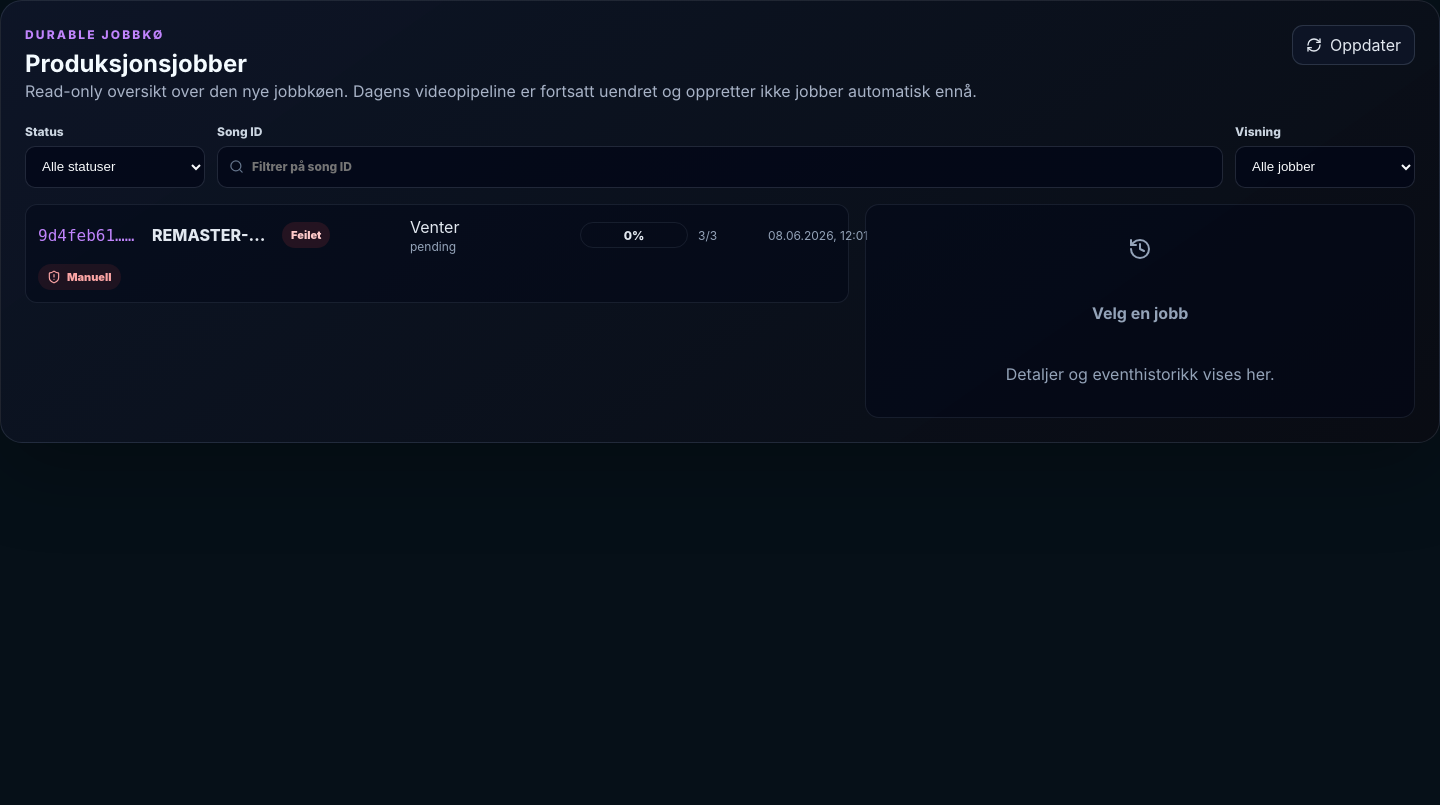
Test: AdminJobs › hides retry when manual review or retry limit blocks it
Click the text "REMASTER-SCHEMA-SMOKE-20260608-test". click: [212, 235]
box: [152, 225, 272, 245]
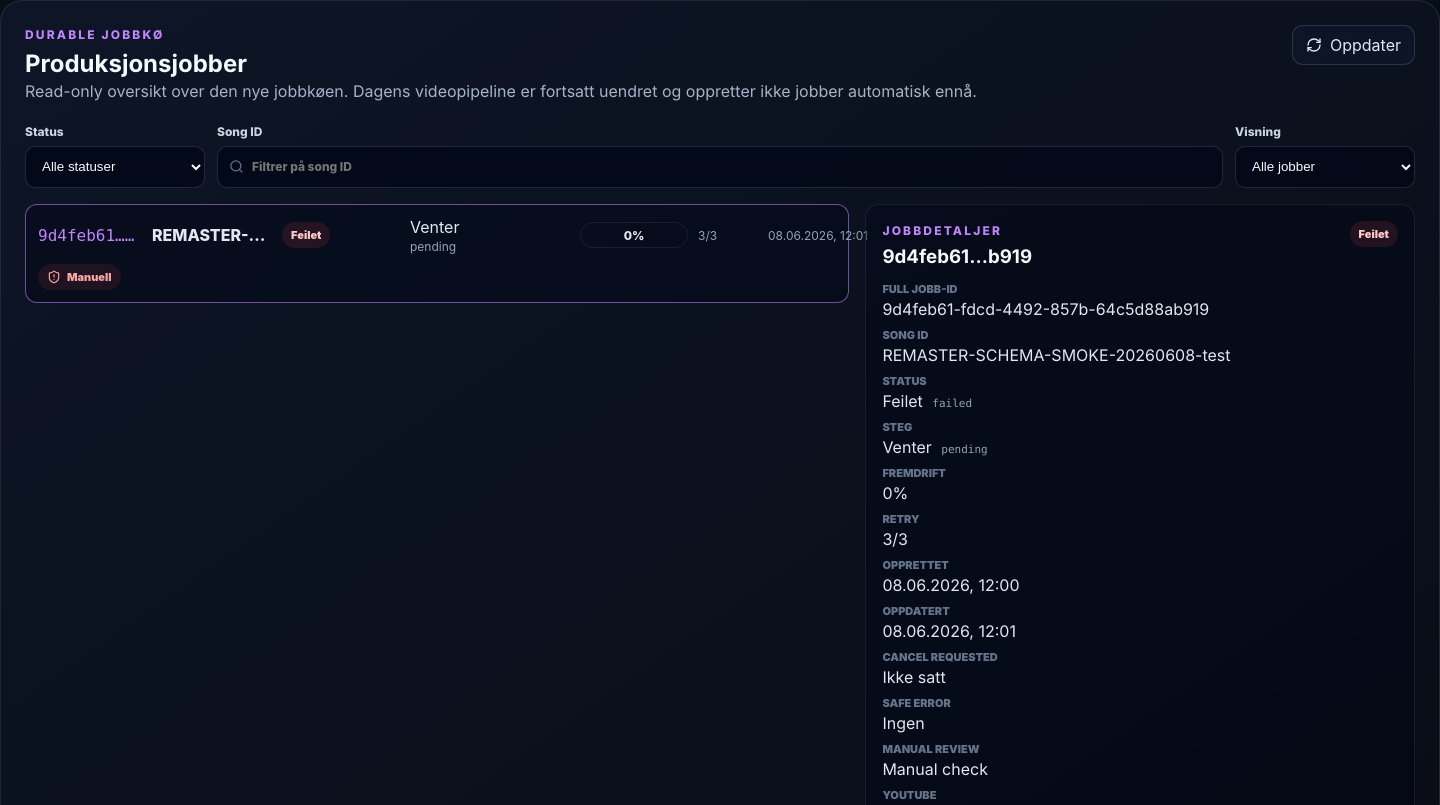
Result: the text "Manual check" is shown at [882, 759, 988, 779]
